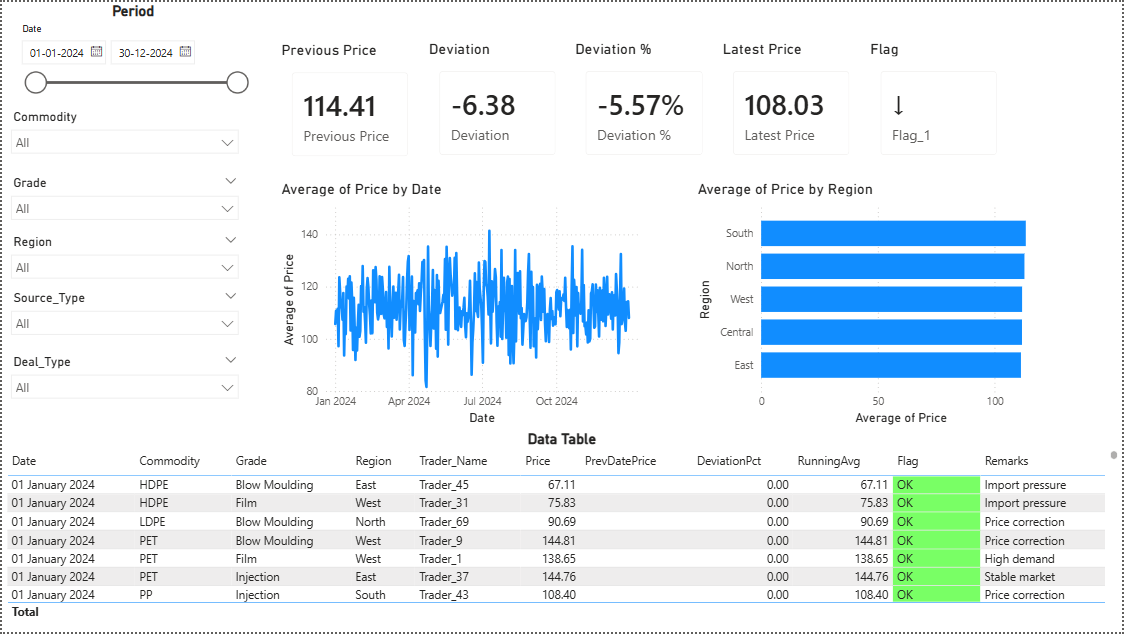

The page's visual inventory and layout, read from the dashboard file:
{"tool":"powerbi","page":{"name":"Page 1","canvas":[1280,720],"ordinal":0},"visuals":[{"type":"slicer","fields":{"Values":["Daily Polymer Report (2).Date"]},"box":[10,0,280,107.8],"z":0},{"type":"slicer","fields":{"Values":["Daily Polymer Report (2).Commodity"]},"box":[0,117.8,280,75.6],"z":1000},{"type":"slicer","fields":{"Values":["Daily Polymer Report (2).Grade"]},"box":[0,193.3,280,66.7],"z":2000},{"type":"slicer","fields":{"Values":["Daily Polymer Report (2).Region"]},"box":[0,260,280,64.4],"z":3000},{"type":"slicer","fields":{"Values":["Daily Polymer Report (2).Source_Type"]},"box":[0,324.4,280,72.2],"z":4000},{"type":"slicer","fields":{"Values":["Daily Polymer Report (2).Deal_Type"]},"box":[0,396.7,280,66.7],"z":5000},{"type":"cardVisual","title":"Previous Price","fields":{"Data":["Daily Polymer Report (2).Previous Price"]},"box":[314.4,44.4,167.8,150],"z":6000},{"type":"cardVisual","title":"Deviation","fields":{"Data":["Daily Polymer Report (2).Deviation"]},"box":[482.2,42.2,167.8,150],"z":7000},{"type":"cardVisual","title":"Deviation %","fields":{"Data":["Daily Polymer Report (2).Deviation %"]},"box":[650,42.2,168.9,150],"z":8000},{"type":"cardVisual","title":"Flag","fields":{"Data":["Daily Polymer Report (2).Flag_1"]},"box":[986.7,42.2,167.8,150],"z":9000},{"type":"cardVisual","title":"Latest Price","fields":{"Data":["Daily Polymer Report (2).Latest Price"]},"box":[818.9,43.3,167.8,150],"z":10000},{"type":"lineChart","fields":{"Y":["Daily Polymer Report (2).Price"],"Category":["Daily Polymer Report (2).Date"]},"box":[314.3,202.9,431.4,285.7],"z":11000},{"type":"clusteredBarChart","fields":{"Category":["Daily Polymer Report (2).Region"],"Y":["Daily Polymer Report (2).Price"]},"box":[790,202.9,412.9,285.7],"z":12000},{"type":"tableEx","title":"Data Table","fields":{"Values":["Daily Polymer Report (2).Date","Daily Polymer Report (2).Commodity","Daily Polymer Report (2).Grade","Daily Polymer Report (2).Region","Daily Polymer Report (2).Trader_Name","Daily Polymer Report (2).Price","Daily Polymer Report (2).PrevDatePrice","Daily Polymer Report (2).DeviationPct","Daily Polymer Report (2).RunningAvg","Daily Polymer Report (2).Flag","Daily Polymer Report (2).Remarks"]},"box":[0,488.6,1280,222.9],"z":13000}]}

Visuals, with their boxes in screenshot pixels (x1, y1, x2, y2), scaled from the page's 1280x720 canvas onto the 1127x636 screenshot:
slicer - Daily Polymer Report (2).Date: box(9, 0, 255, 95)
slicer - Daily Polymer Report (2).Commodity: box(0, 104, 247, 171)
slicer - Daily Polymer Report (2).Grade: box(0, 171, 247, 230)
slicer - Daily Polymer Report (2).Region: box(0, 230, 247, 287)
slicer - Daily Polymer Report (2).Source_Type: box(0, 287, 247, 350)
slicer - Daily Polymer Report (2).Deal_Type: box(0, 350, 247, 409)
"Previous Price" cardVisual: box(277, 39, 425, 172)
"Deviation" cardVisual: box(425, 37, 572, 170)
"Deviation %" cardVisual: box(572, 37, 721, 170)
"Flag" cardVisual: box(869, 37, 1017, 170)
"Latest Price" cardVisual: box(721, 38, 869, 171)
lineChart - Daily Polymer Report (2).Price x Daily Polymer Report (2).Date: box(277, 179, 657, 432)
clusteredBarChart - Daily Polymer Report (2).Region x Daily Polymer Report (2).Price: box(696, 179, 1059, 432)
"Data Table" tableEx: box(0, 432, 1126, 628)
